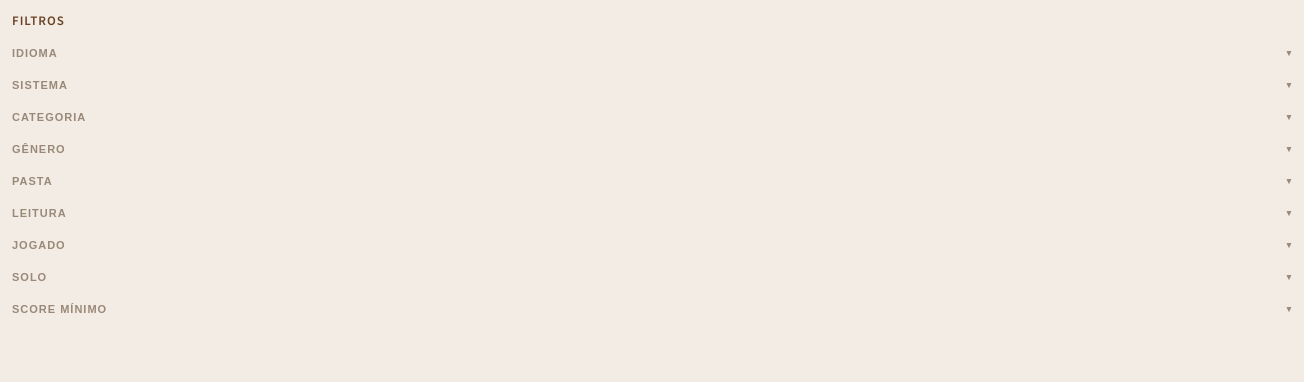
Test: FilterSidebar — filtros de catálogo › renders system facets with counts after expanding group
What coordinates should you click on to do the following:
click the button "Sistema ▾"
I would click on:
 (40, 85)
Its box is left=12, top=77, right=1292, bottom=93.
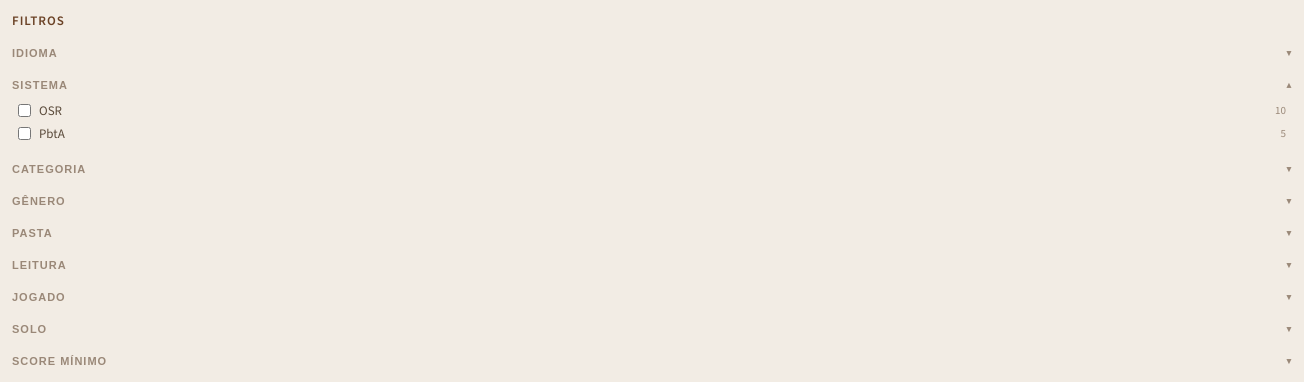
Now the text "OSR" is shown, box left=39, top=102, right=62, bottom=119
Now the text "10" is shown, box left=1275, top=103, right=1286, bottom=118
Now the text "PbtA" is shown, box left=39, top=125, right=65, bottom=142
